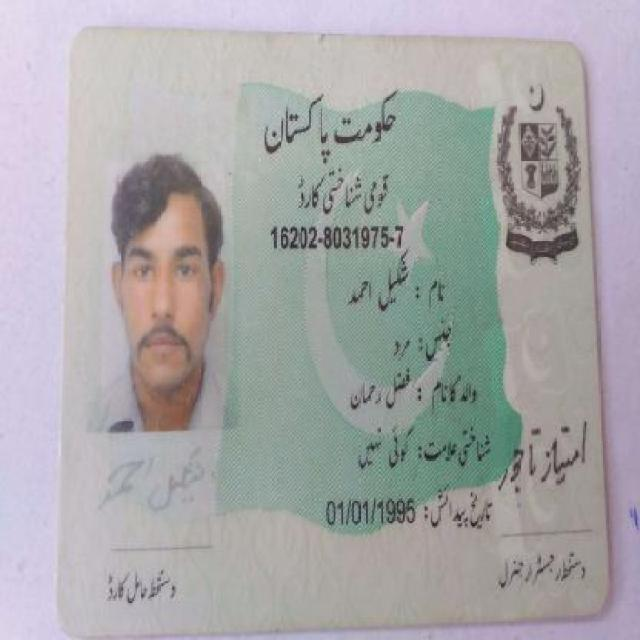Front: (54, 25, 614, 632)
